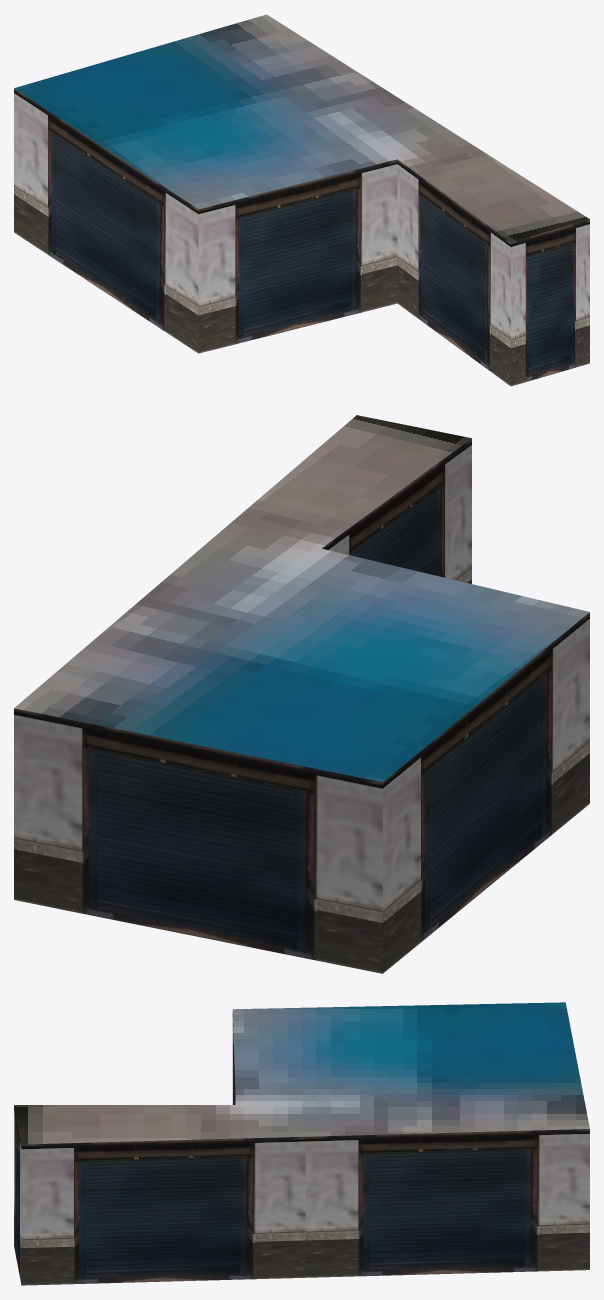
Rendered from T_1SVNP4NXCQ.dae.
3 views of the same model, one above another, from view 1: azimuth 30°, elevation 25°; view 2: azimuth 150°, elevation 25°; view 3: azimuth 270°, elevation 25° (orthographic). The views are drawn at different scales.
Visible parts, largest first — view 1: SketchUp (×5); view 2: SketchUp (×4); view 3: SketchUp (×3).
Part boxes in pixels (x1,y1,x2,y2): SketchUp (×5): (14, 14, 589, 386); SketchUp (×4): (14, 415, 589, 973); SketchUp (×3): (14, 1002, 589, 1285).
Size of the model in its own units: 5.94 by 10.17 by 2.75.
Materials: 2 (2 with a texture image).
